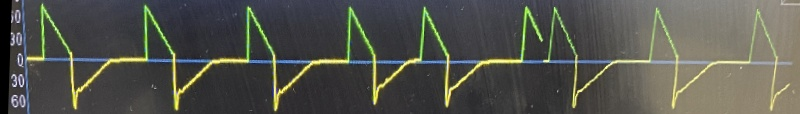normal_flow: (22, 0, 517, 114), (543, 0, 792, 114)
